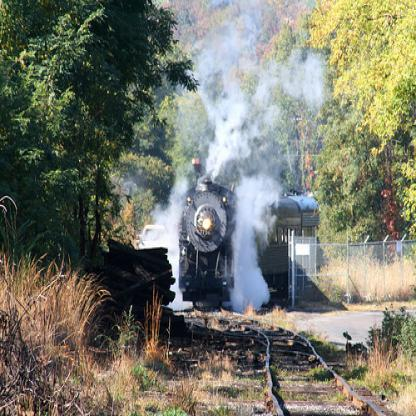train: (179, 176, 329, 312)
